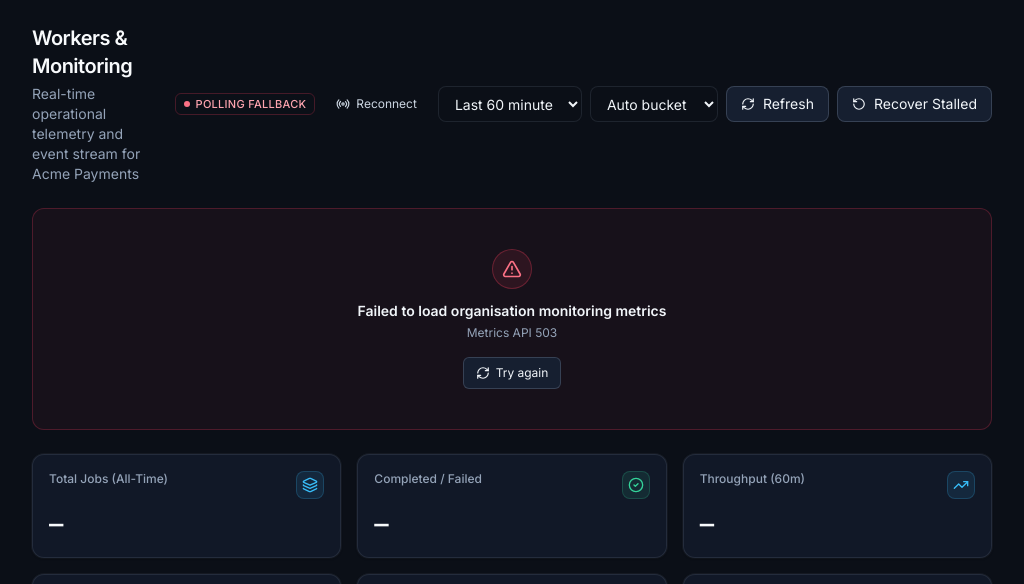
Scenario: Step 7.4 — Real-Time Monitoring Dashboard UI (MonitoringPage) › cleans up SSE on unmount, handles API errors with retry, and enforces RBAC on Recover Stalled
Expected: the heading "Failed to load organisation monitoring metrics" is shown, [358,301,666,321]
Expected: the text "Metrics API 503" is shown, [467,325,557,341]
// Retry succeeds
Click the button "Try again": {"x": 512, "y": 373} [463,357,561,389]
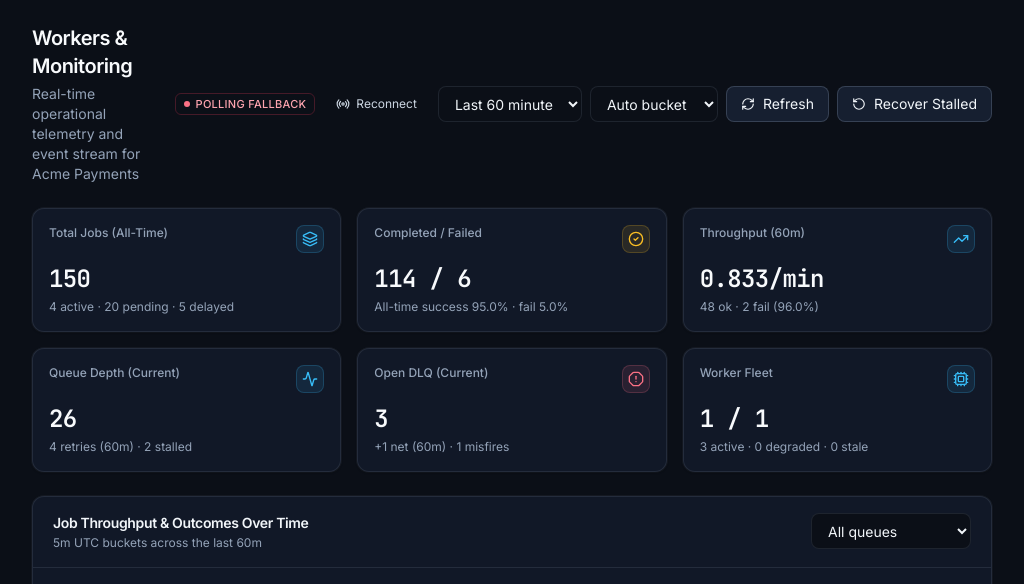
Now the text "150" is shown, box [49,263,90,294]
// OWNER sees Recover Stalled button and can trigger recovery
Click the button "Recover Stalled": {"x": 914, "y": 104} [837,86,992,122]
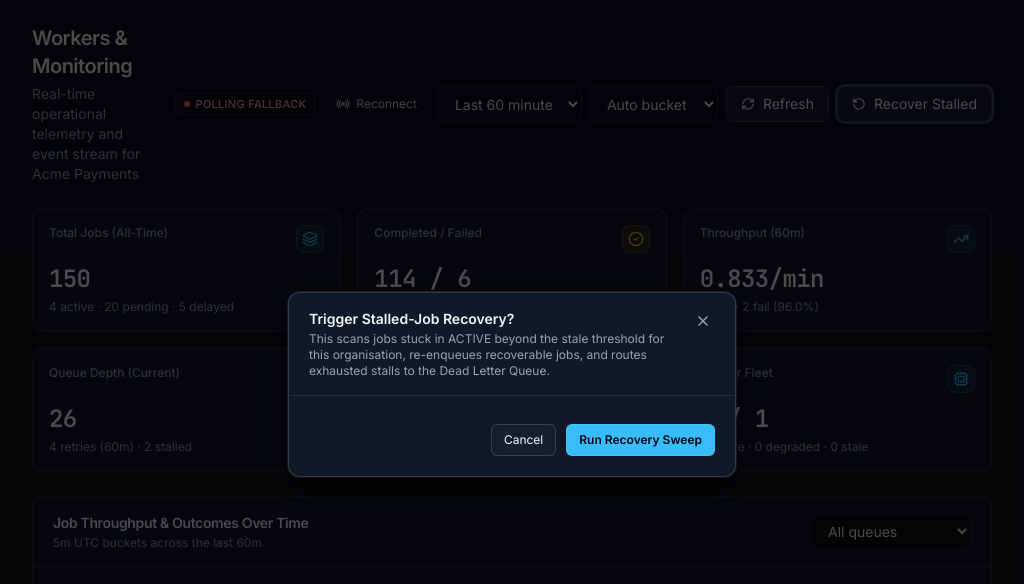
Click the button "Run Recovery Sweep": {"x": 641, "y": 440} [566,424,715,456]
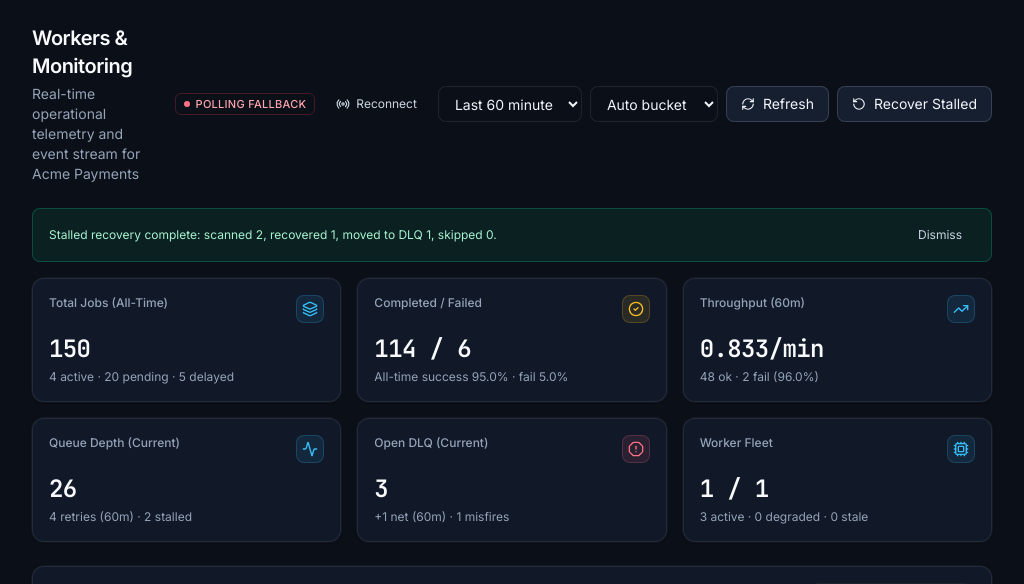
Now the text "Stalled recovery complete: scanned 2, recovered 1" is shown, box [49,227,497,243]
